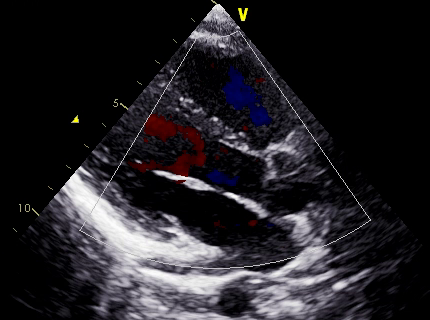AR: (158, 116, 220, 181)
